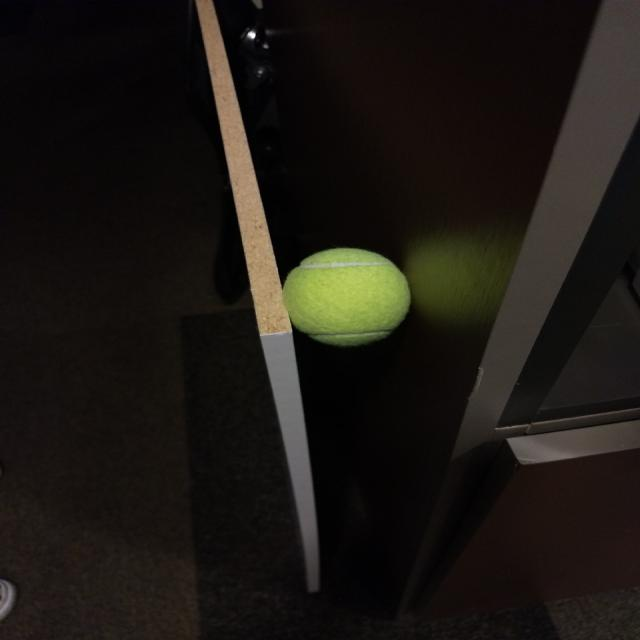Tennis-Ball: (282, 241, 414, 351)
